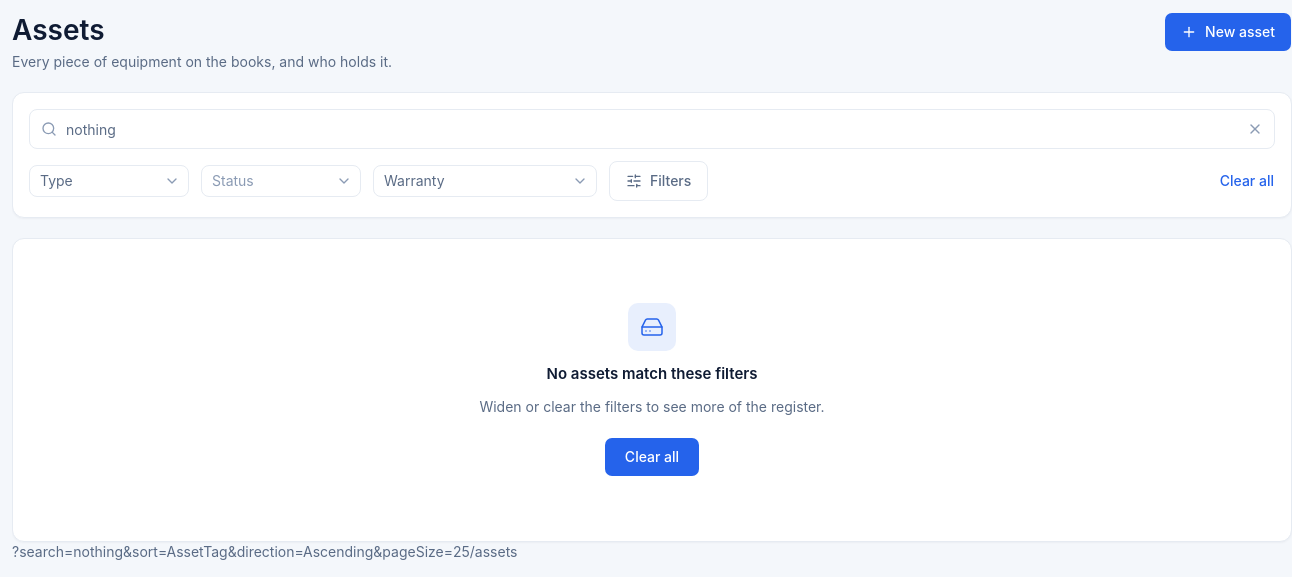
AssetsPage › distinguishes an empty register from an over-narrowed one, and offers to clear
Expected: the text "No assets match these filters" is shown, x1=546 y1=363 x2=757 y2=385
Click the button "Clear all" below "No assets match these filters".
click(652, 457)  # box x1=604 y1=437 x2=700 y2=477
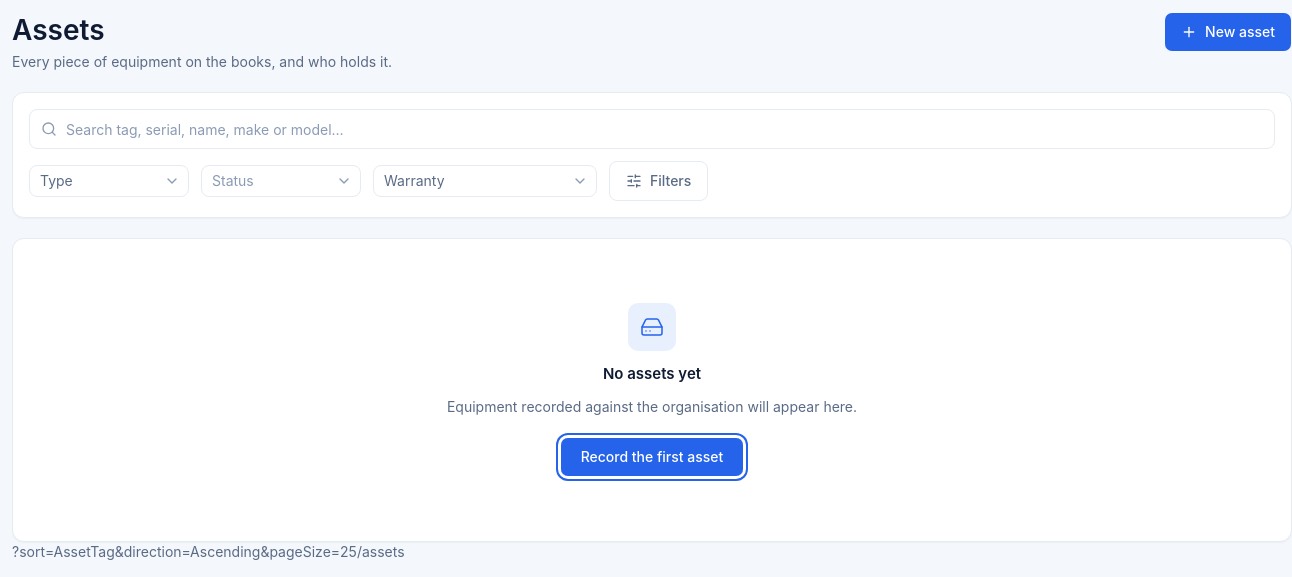
Expected: the text with test id "address" no longer shows "search="
